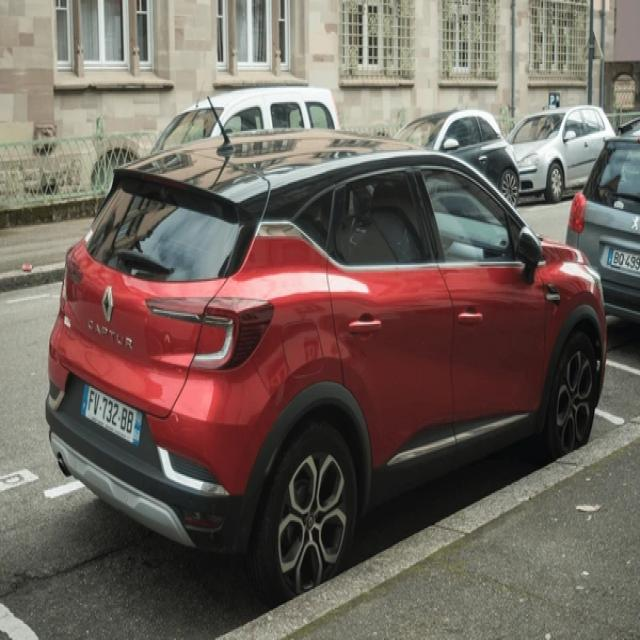renault: (101, 284, 115, 322)
